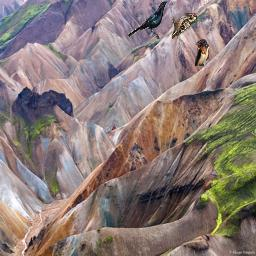Crow: (128, 1, 168, 39)
Swallow: (195, 39, 209, 66)
Woodpecker: (172, 13, 197, 39)
